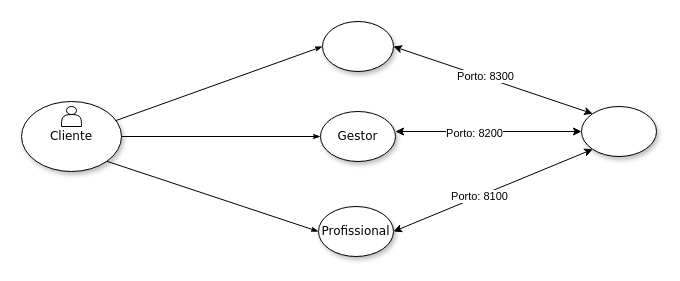
Some shapes in this 680 by 281 pixel diagram are drawn without their labels. The centre of each missing label's shape, as x and y in pixels:
"Agente" belongs at (359,47).
"Central" belongs at (619,133).
